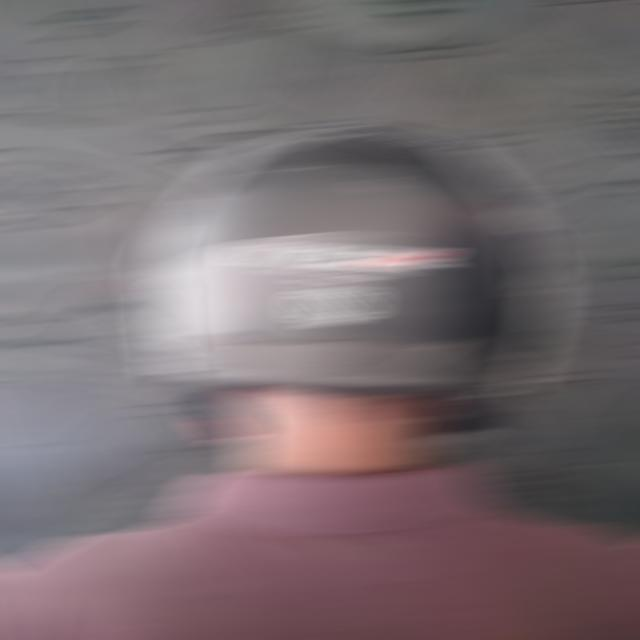With Helmet: (134, 119, 565, 411)
